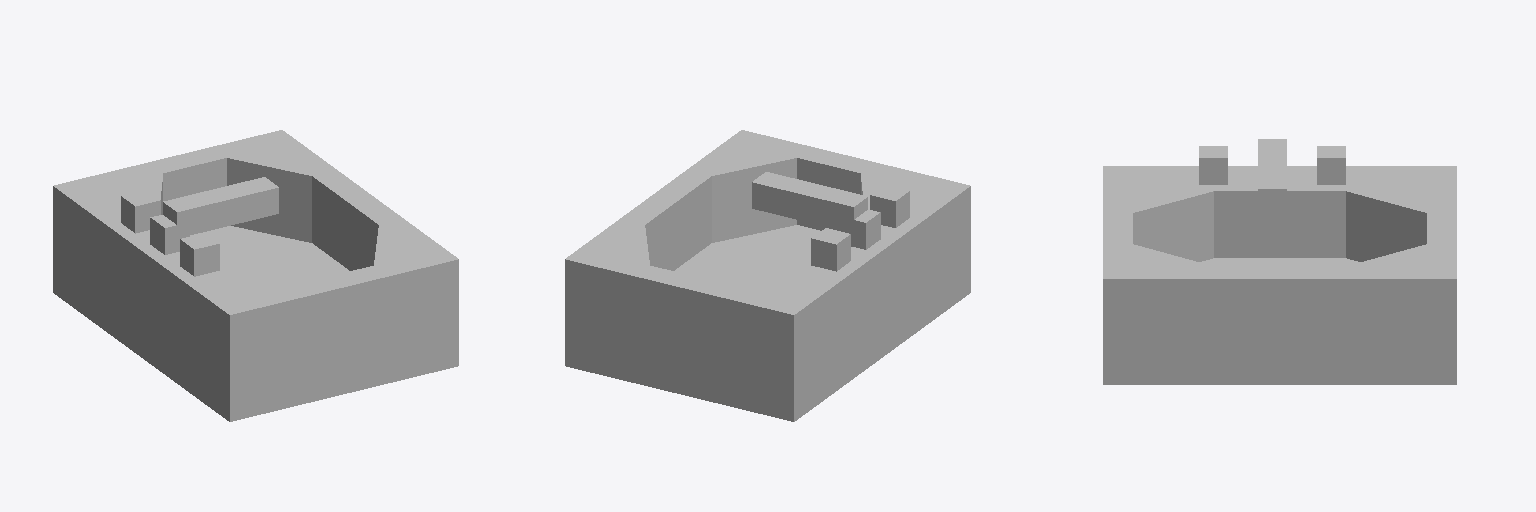
The model's file is sinkdirty.obj.
The picture shows the model from 3 angles: view 1: azimuth 30°, elevation 25°; view 2: azimuth 150°, elevation 25°; view 3: azimuth 270°, elevation 25°; orthographic projection.
Parts seen in each view (by area): view 1: dirtyfuckpussy; view 2: dirtyfuckpussy; view 3: dirtyfuckpussy.
Boxes of the visible parts, x1,y1,x2,y2 form: dirtyfuckpussy: [53, 130, 458, 421]; dirtyfuckpussy: [565, 130, 970, 421]; dirtyfuckpussy: [1103, 139, 1456, 384].
Bounding box in the file's own units: 31.9 × 19.5 × 42.6.